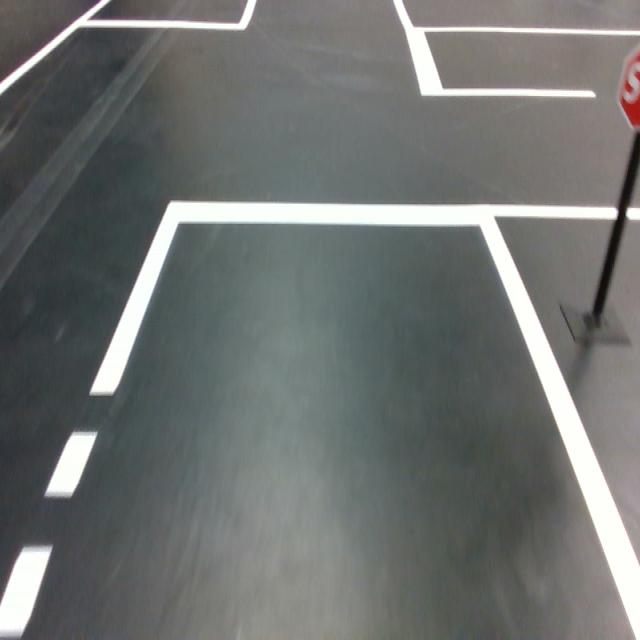stop-sign: (615, 39, 640, 134)
